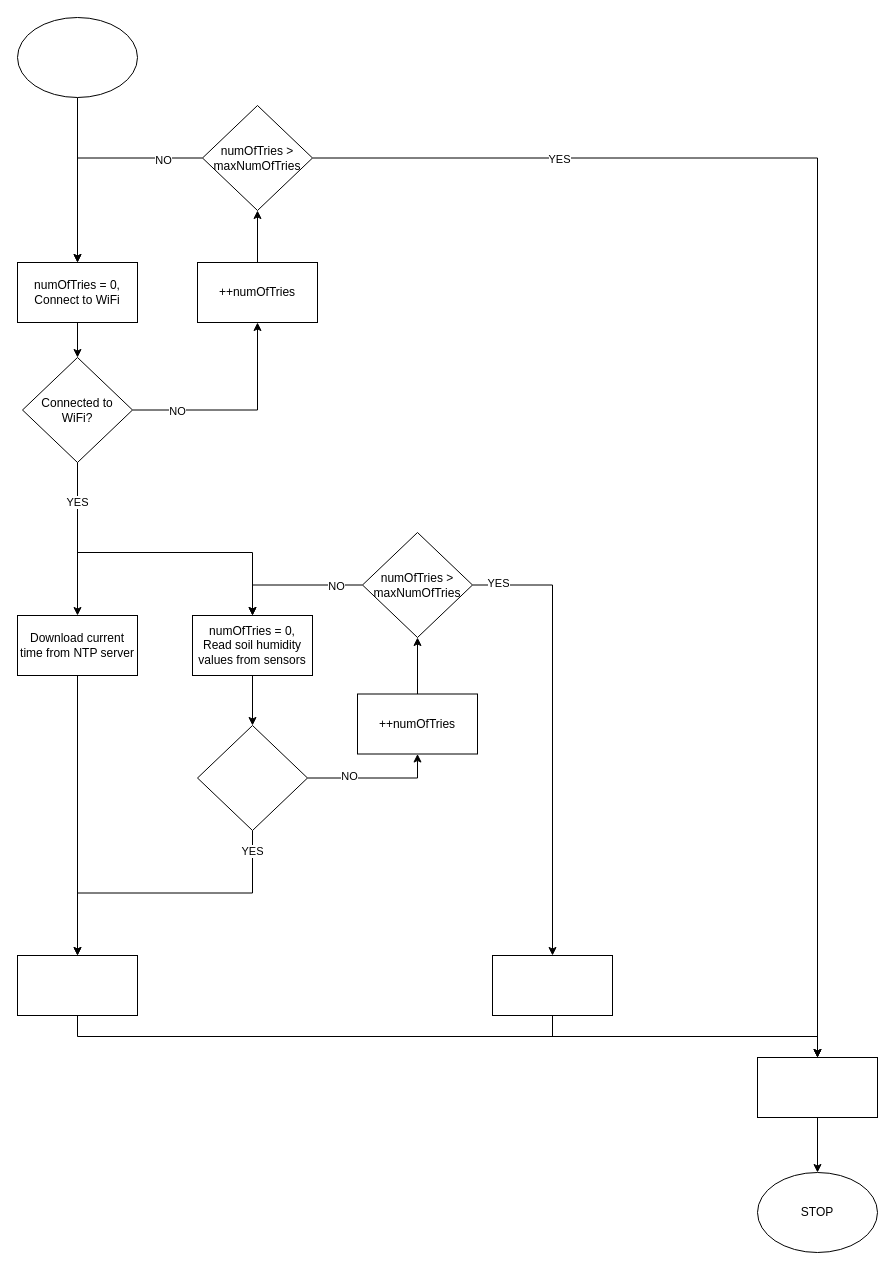
Some shapes in this 895 by 1270 pixel diagram are drawn without their labels. The centre of each missing label's shape, as x and y in pixels:
"Get into Deep Sleep for X hours" belongs at point (817, 1087).
"Read success?" belongs at point (252, 777).
"Send information about fail to MQTT broker" belongs at point (552, 985).
"Send measurement data to MQTT broker" belongs at point (77, 985).
"START" belongs at point (77, 57).
